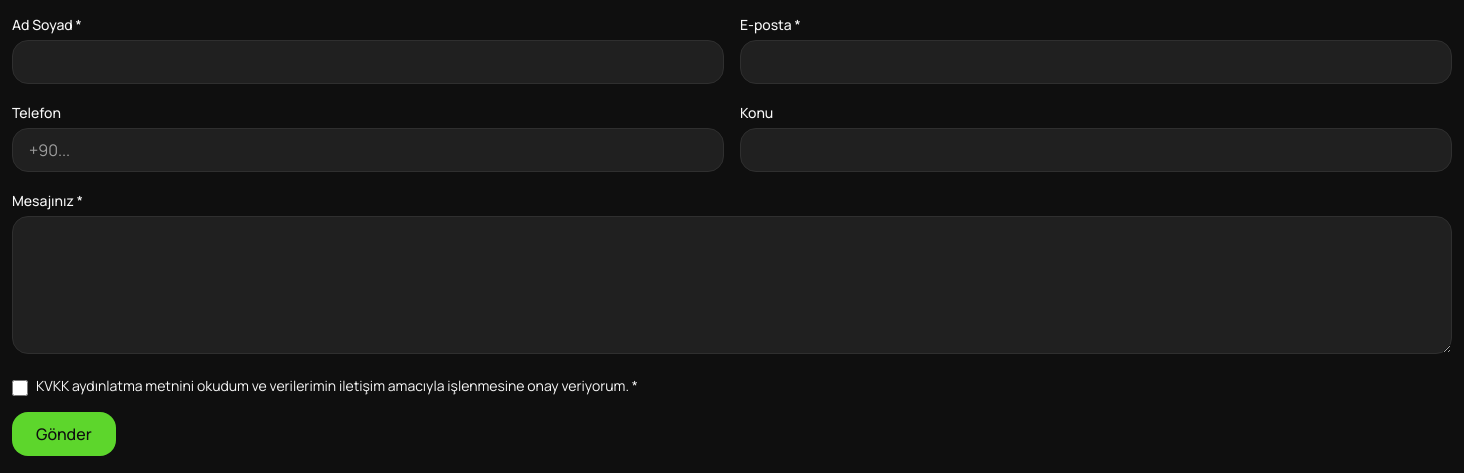
Test case: ContactForm › shows success state after successful submit
This screenshot has width=1464, height=473.
Type "Ahmet" into the field labelled "Ad Soyad *" at (368, 62), box [12,40,724,84]
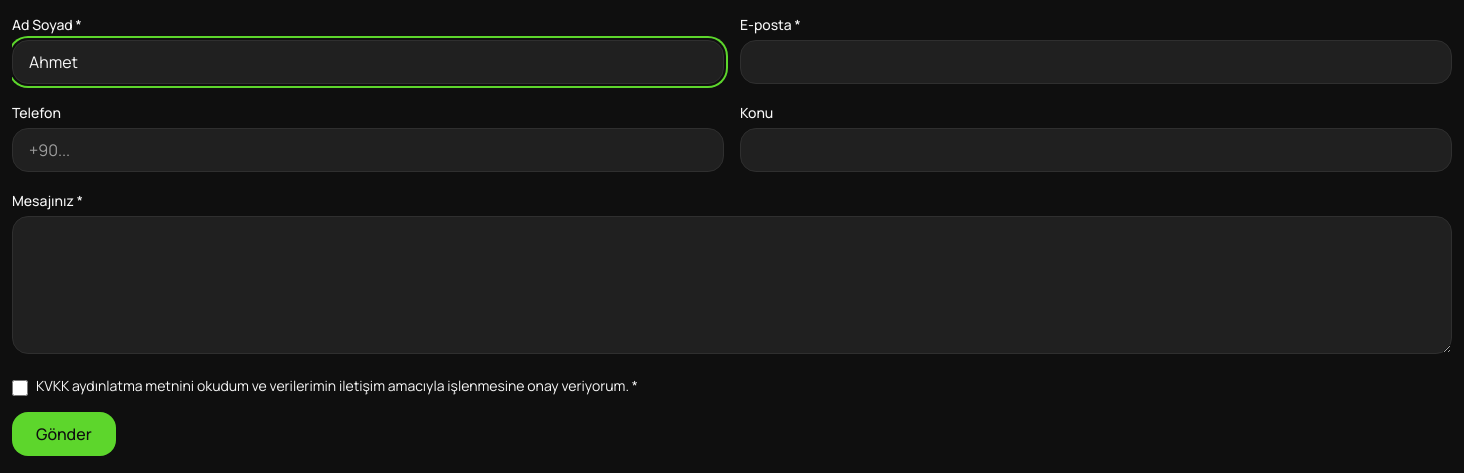
Type "a@b.com" into the field labelled "E-posta *" at (1096, 62), box [740,40,1452,84]
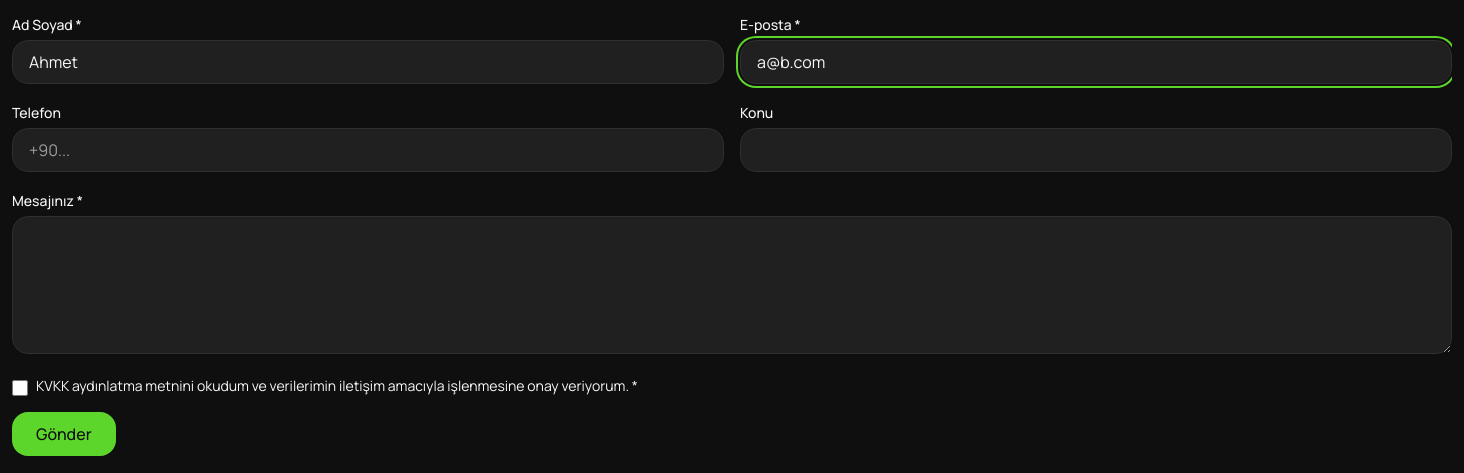
Type "Bu en az on karakter mesaj." into the text box labelled "Mesajınız *" at (732, 285), box [12,216,1452,354]
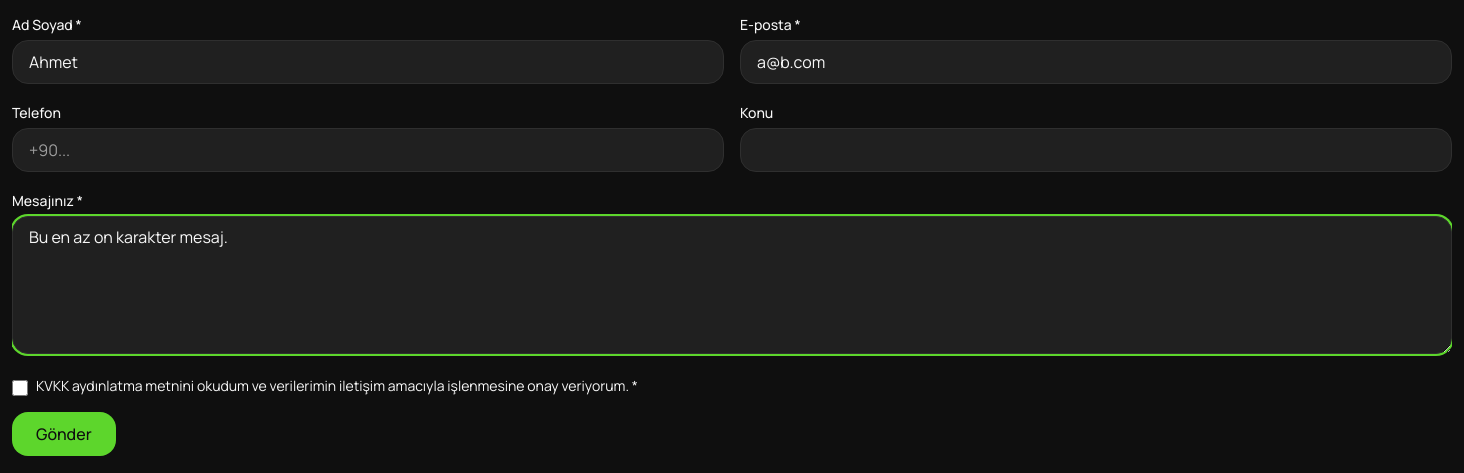
Click the checkbox labelled "KVKK aydınlatma" at (20, 388), box [12,380,28,396]
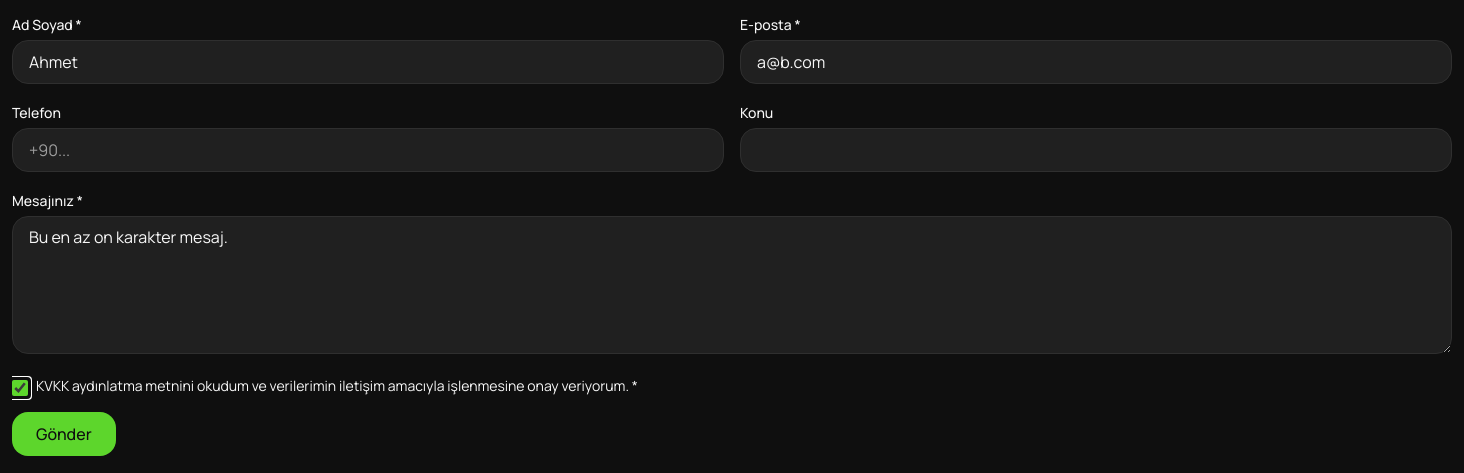
Click the button "Gönder" at (64, 434), box [12,412,116,456]
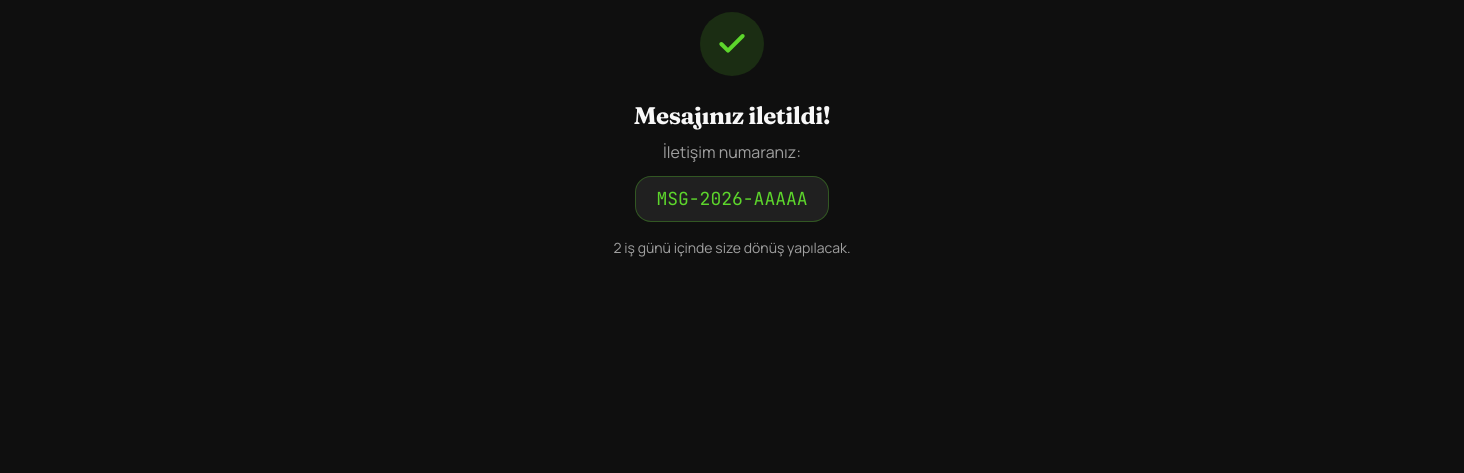
Now the text "MSG-2026-AAAAA" is shown, box [635,176,829,222]
